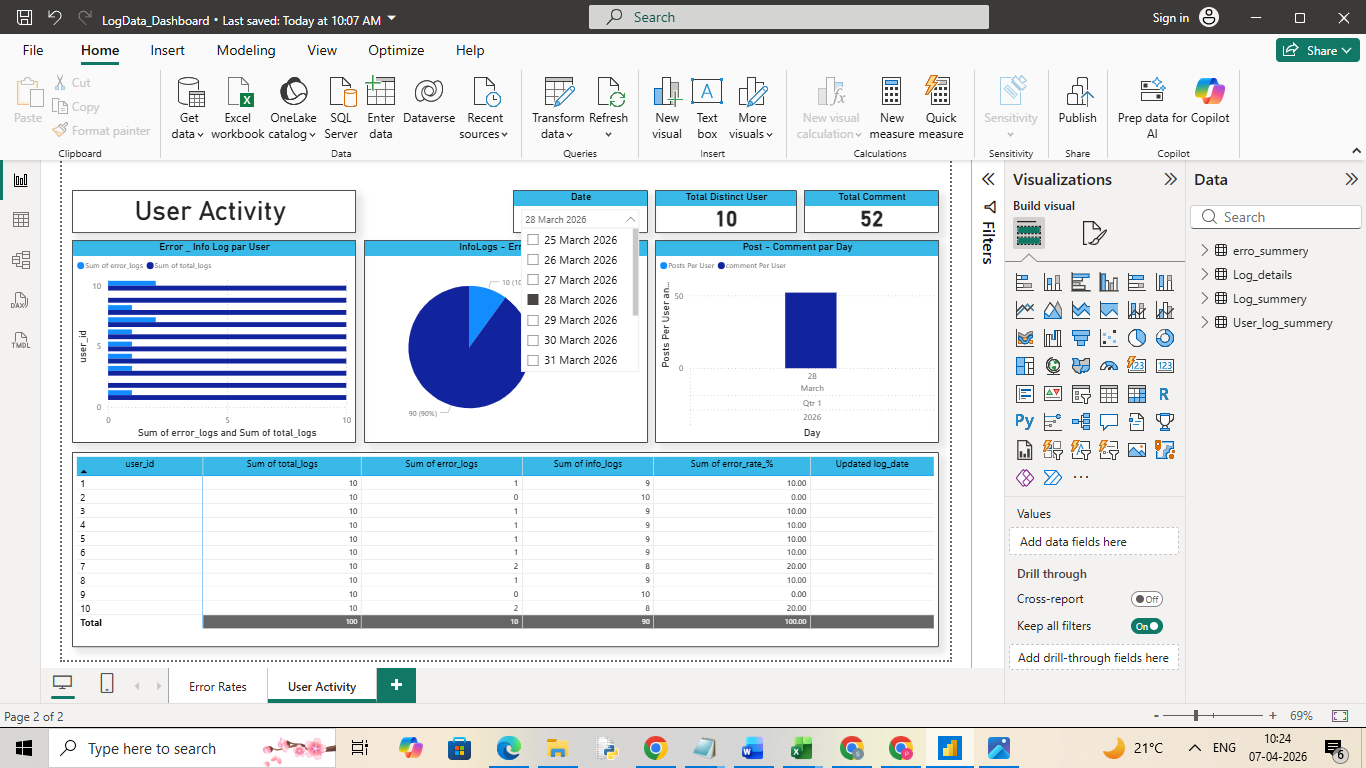

This screenshot's page, from the dashboard's own definition file:
{"tool":"powerbi","page":{"name":"User Activity","canvas":[1280,720],"ordinal":1},"visuals":[{"type":"pivotTable","fields":{"Rows":["User_log_summery.user_id"],"Values":["Sum(User_log_summery.total_logs)","Sum(User_log_summery.error_logs)","Sum(User_log_summery.info_logs)","Sum(User_log_summery.error_rate_%)","Min(Log_details.log_date)"]},"box":[14.4,420.5,1248.5,280.8],"z":0},{"type":"pieChart","title":"InfoLogs - ErrorLogs","fields":{"Y":["Sum(User_log_summery.error_logs)","Sum(User_log_summery.info_logs)"]},"box":[434.9,115.2,409,292.3],"z":1000},{"type":"columnChart","title":"Post - Comment par Day","fields":{"Category":["Log_summery.log_date.Variation.Date Hierarchy.Year","Log_summery.log_date.Variation.Date Hierarchy.Quarter","Log_summery.log_date.Variation.Date Hierarchy.Month","Log_summery.log_date.Variation.Date Hierarchy.Day"],"Y":["Log_details.Posts Per User","Log_details.comment Per User"]},"box":[853.9,115.2,409,292.3],"z":2000},{"type":"card","title":"Total Distinct User","fields":{"Values":["CountNonNull(User_log_summery.user_id)"]},"box":[853.9,43.2,204.5,61.9],"z":4000},{"type":"card","title":"Total Comment","fields":{"Values":["Log_details.comment Per User"]},"box":[1068.5,43.2,194.4,61.9],"z":5000},{"type":"slicer","title":"Date","fields":{"Values":["Log_summery.log_date"]},"box":[649.4,43.2,194.4,61.9],"z":6000},{"type":"clusteredBarChart","title":"Error _ Info Log par User","fields":{"Category":["User_log_summery.user_id"],"Y":["Sum(User_log_summery.error_logs)","Sum(User_log_summery.total_logs)"]},"box":[14.4,115.2,409,292.3],"z":7000},{"type":"textbox","box":[14.4,43.2,409,61.9],"z":7001}]}

Visuals, with their boxes on the page's 1280x720 design canvas (x1, y1, x2, y2). These are canvas units, not pixel positions in the 1366x768 screenshot, which may show the page scaled, cropped or inside an application window:
pivotTable - User_log_summery.user_id x Sum(User_log_summery.total_logs): [x1=14, y1=420, x2=1263, y2=701]
"InfoLogs - ErrorLogs" pieChart: [x1=435, y1=115, x2=844, y2=408]
"Post - Comment par Day" columnChart: [x1=854, y1=115, x2=1263, y2=408]
"Total Distinct User" card: [x1=854, y1=43, x2=1058, y2=105]
"Total Comment" card: [x1=1068, y1=43, x2=1263, y2=105]
"Date" slicer: [x1=649, y1=43, x2=844, y2=105]
"Error _ Info Log par User" clusteredBarChart: [x1=14, y1=115, x2=423, y2=408]
textbox: [x1=14, y1=43, x2=423, y2=105]
